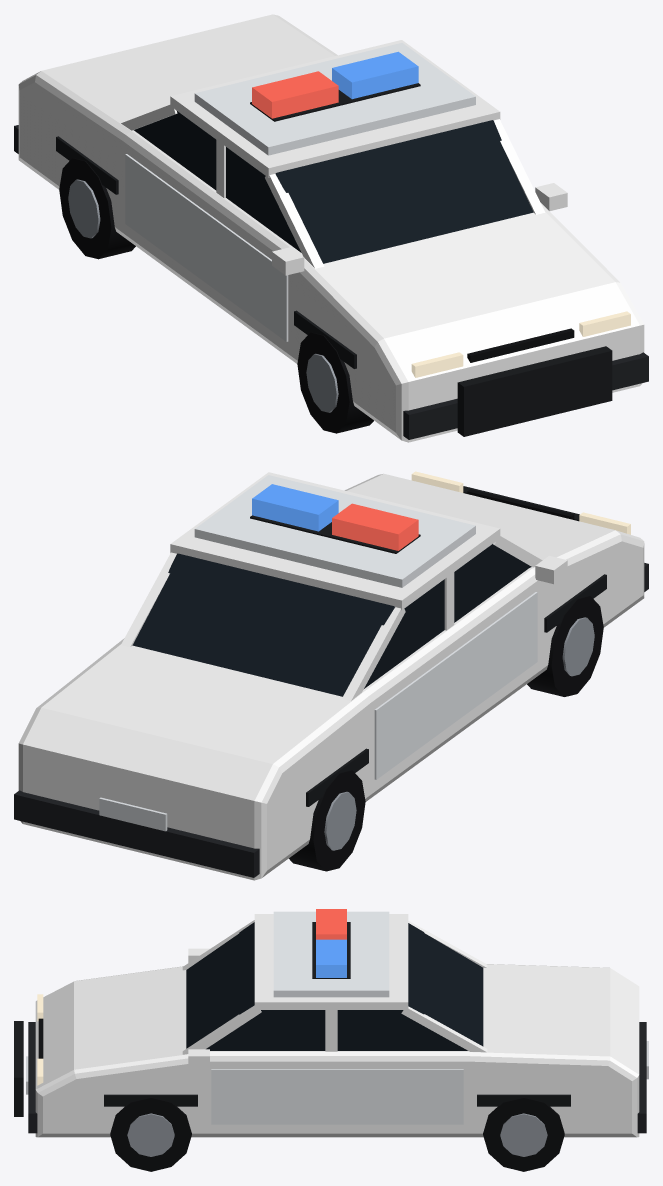
Rendered from police.glb.
3 renders of one model, top to bottom at view 1: azimuth 30°, elevation 25°; view 2: azimuth 150°, elevation 25°; view 3: azimuth 270°, elevation 25°, orthographic. The views are drawn at different scales.
Parts seen in each view (by area): view 1: paint, trim, bar, lights; view 2: paint, trim, bar, lights; view 3: paint, trim, bar.
Part boxes in pixels (<box>): paint: <box>18,14,644,442</box>; trim: <box>14,43,648,439</box>; bar: <box>252,51,418,118</box>; lights: <box>411,311,630,377</box>; paint: <box>18,472,644,880</box>; trim: <box>14,475,648,877</box>; bar: <box>252,484,418,550</box>; lights: <box>411,471,630,534</box>; paint: <box>35,914,639,1137</box>; trim: <box>14,911,648,1171</box>; bar: <box>316,909,346,977</box>.
Bounding box in the file's own units: 2.12 × 1.71 × 5.28.
